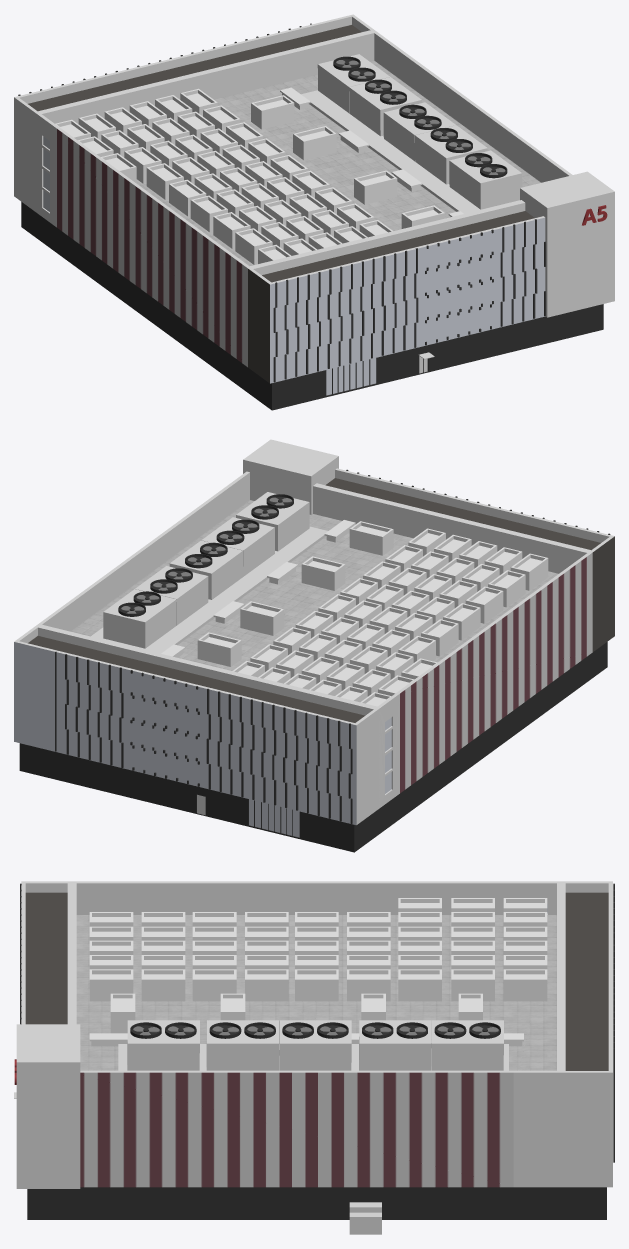
The picture shows the model from 3 angles, top to bottom: view 1: azimuth 30°, elevation 25°; view 2: azimuth 150°, elevation 25°; view 3: azimuth 270°, elevation 25°; orthographic projection. The views are drawn at different scales.
Parts seen in each view (by area): view 1: 立方体.001, 立方体.062, 玻璃.008, 平面, 立方体.002, 形状结合.001, 柱体.017, 平面.001, 立方体.057, 立方体.054, 立方体.056, 立方体.053 (+2 smaller); view 2: 立方体.001, 立方体.062, 玻璃.008, 平面, 形状结合.003, 立方体.002, 平面.001, 柱体.017, 立方体.053, 立方体.055, 立方体.057, 立方体.054 (+2 smaller); view 3: 立方体.001, 立方体.062, 平面, 立方体.002, 柱体.017, 立方体.056, 立方体.057, 立方体.055, 立方体.054, 立方体.053, 立方体.283, 平面.001 (+1 smaller).
Boxes of the visible parts, x1,y1,x2,y2 form: 立方体.001: (14, 14, 572, 383); 立方体.062: (55, 87, 463, 264); 玻璃.008: (270, 217, 545, 383); 平面: (21, 202, 603, 410); 立方体.002: (520, 171, 614, 317); 形状结合.001: (273, 219, 545, 382); 柱体.017: (333, 56, 507, 178); 平面.001: (301, 90, 517, 213); 立方体.057: (449, 150, 522, 209); 立方体.054: (349, 77, 421, 136); 立方体.056: (415, 125, 487, 184); 立方体.053: (317, 54, 389, 112); 立方体.001: (14, 468, 614, 824); 立方体.062: (161, 520, 548, 706); 玻璃.008: (14, 642, 356, 825); 平面: (19, 642, 607, 852); 形状结合.003: (55, 651, 352, 823); 立方体.002: (243, 439, 338, 514); 平面.001: (91, 526, 327, 653); 柱体.017: (118, 494, 293, 616); 立方体.053: (103, 589, 176, 648); 立方体.055: (169, 540, 243, 599); 立方体.057: (236, 492, 309, 551); 立方体.054: (135, 566, 208, 625); 立方体.001: (21, 881, 612, 1187); 立方体.062: (89, 898, 547, 1046); 平面: (14, 1092, 606, 1219); 立方体.002: (16, 1024, 80, 1188); 柱体.017: (130, 1022, 500, 1038); 立方体.056: (206, 1020, 279, 1070); 立方体.057: (127, 1020, 199, 1070); 立方体.055: (279, 1020, 351, 1070); 立方体.054: (359, 1020, 431, 1070); 立方体.053: (431, 1020, 503, 1070); 立方体.283: (349, 1202, 381, 1234); 平面.001: (118, 1044, 508, 1070).
Size of the model in its own units: 27.92 by 10.19 by 34.36.
13 materials, 2 textured.
